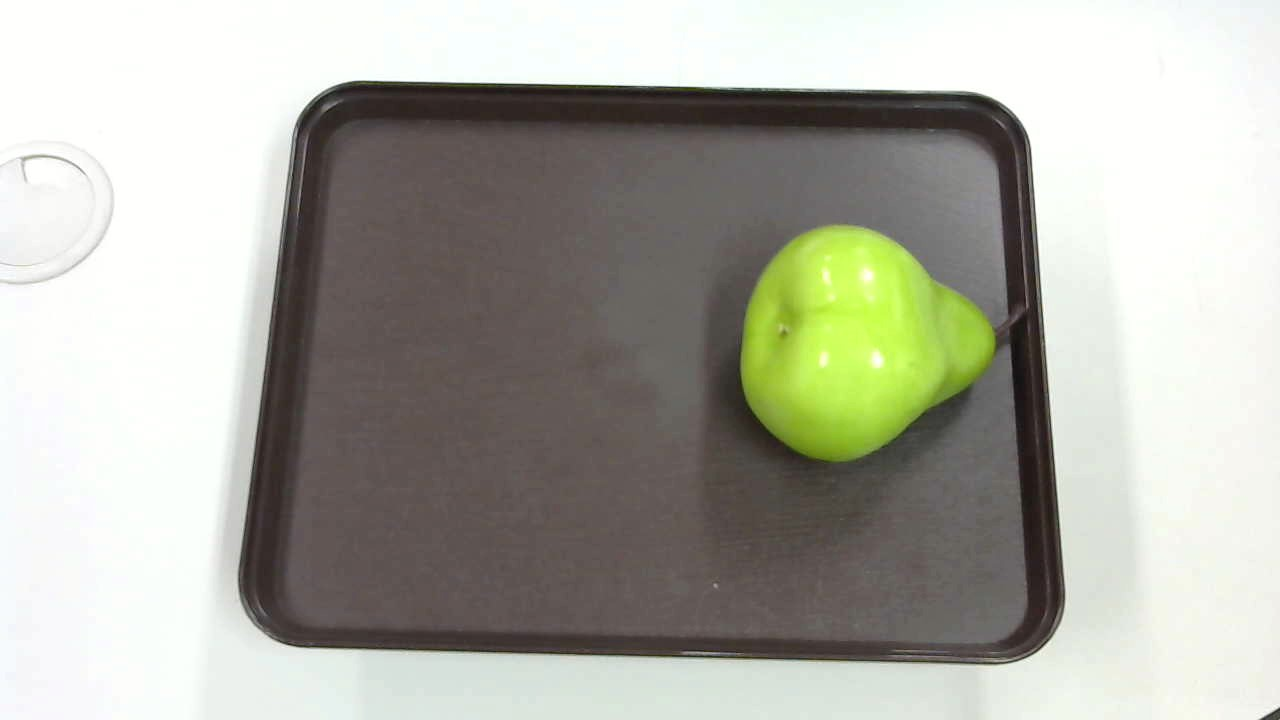green pear: (724, 219, 1034, 485)
